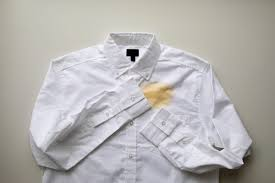coffee: (146, 84, 169, 103)
